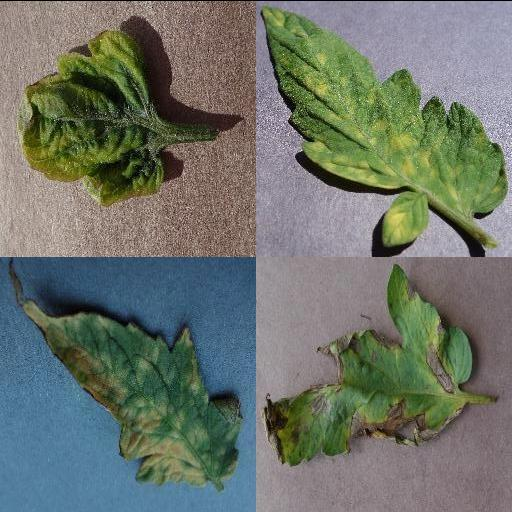Early Blight: (261, 262, 477, 465)
Leaf Mold: (259, 7, 509, 243), (19, 297, 243, 483)
Yellow Leaf Curl Virus: (15, 28, 165, 206)
